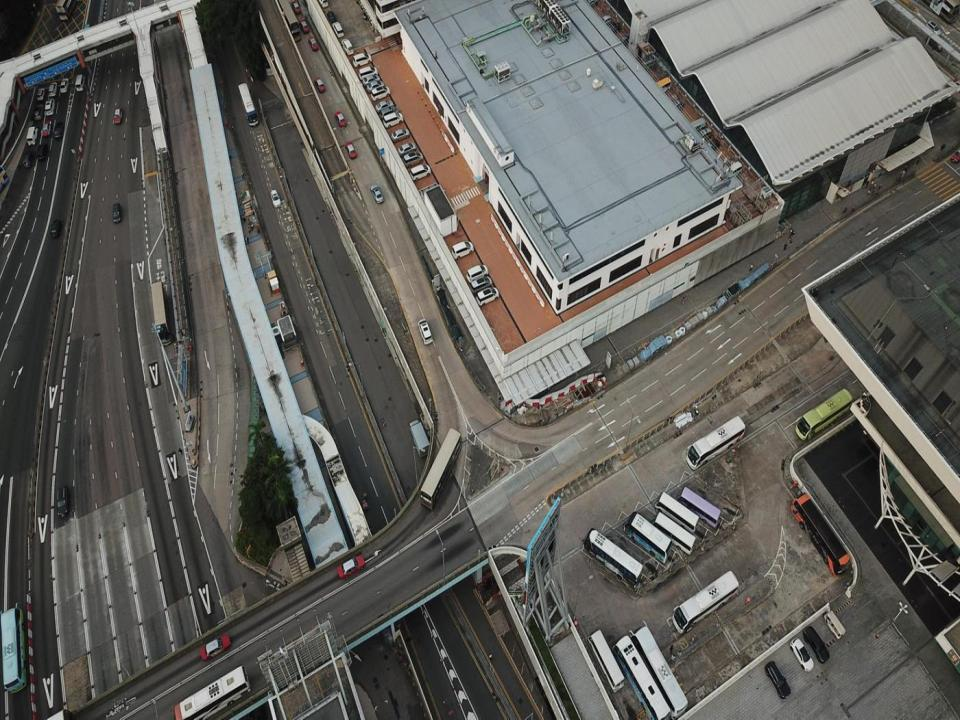bus: (628, 620, 687, 719), (791, 492, 850, 578), (612, 634, 670, 719), (672, 570, 740, 634), (170, 665, 250, 719), (582, 527, 643, 588), (420, 428, 462, 510), (685, 416, 744, 470), (795, 388, 853, 440), (0, 602, 28, 693), (623, 512, 672, 562), (587, 628, 624, 692), (676, 485, 722, 528), (649, 512, 696, 554), (655, 492, 699, 536), (150, 280, 172, 346), (276, 0, 300, 42), (238, 82, 258, 128), (56, 0, 76, 20)
car: (803, 625, 830, 663), (790, 637, 813, 671), (200, 634, 230, 660), (336, 554, 364, 578), (370, 184, 384, 204), (362, 4, 379, 20), (375, 100, 394, 114), (398, 143, 416, 157), (391, 129, 410, 142), (366, 80, 385, 93), (270, 189, 281, 208), (363, 75, 380, 87), (345, 141, 356, 159), (375, 1, 389, 15), (50, 218, 60, 237), (33, 104, 44, 120), (335, 111, 346, 127), (298, 19, 310, 33), (314, 77, 325, 92), (114, 105, 123, 123), (54, 122, 64, 137), (291, 0, 301, 15), (48, 82, 58, 96), (326, 9, 336, 23), (308, 36, 318, 50), (60, 78, 69, 93), (42, 121, 51, 136), (36, 87, 44, 100)
truck: (408, 419, 431, 458)
van: (764, 660, 790, 698), (451, 240, 473, 260), (466, 264, 488, 283), (477, 288, 499, 306), (470, 277, 492, 295), (410, 163, 431, 181), (57, 486, 69, 517), (418, 319, 432, 345), (383, 111, 403, 128), (370, 85, 391, 101), (352, 53, 372, 69), (403, 152, 423, 167), (359, 65, 378, 80), (379, 106, 399, 120), (370, 17, 388, 31), (35, 142, 48, 160), (341, 38, 354, 56), (26, 126, 38, 144), (81, 24, 92, 43), (44, 98, 56, 115), (74, 73, 85, 91), (23, 150, 34, 167), (332, 21, 343, 38), (113, 203, 122, 223), (317, 0, 328, 8)
